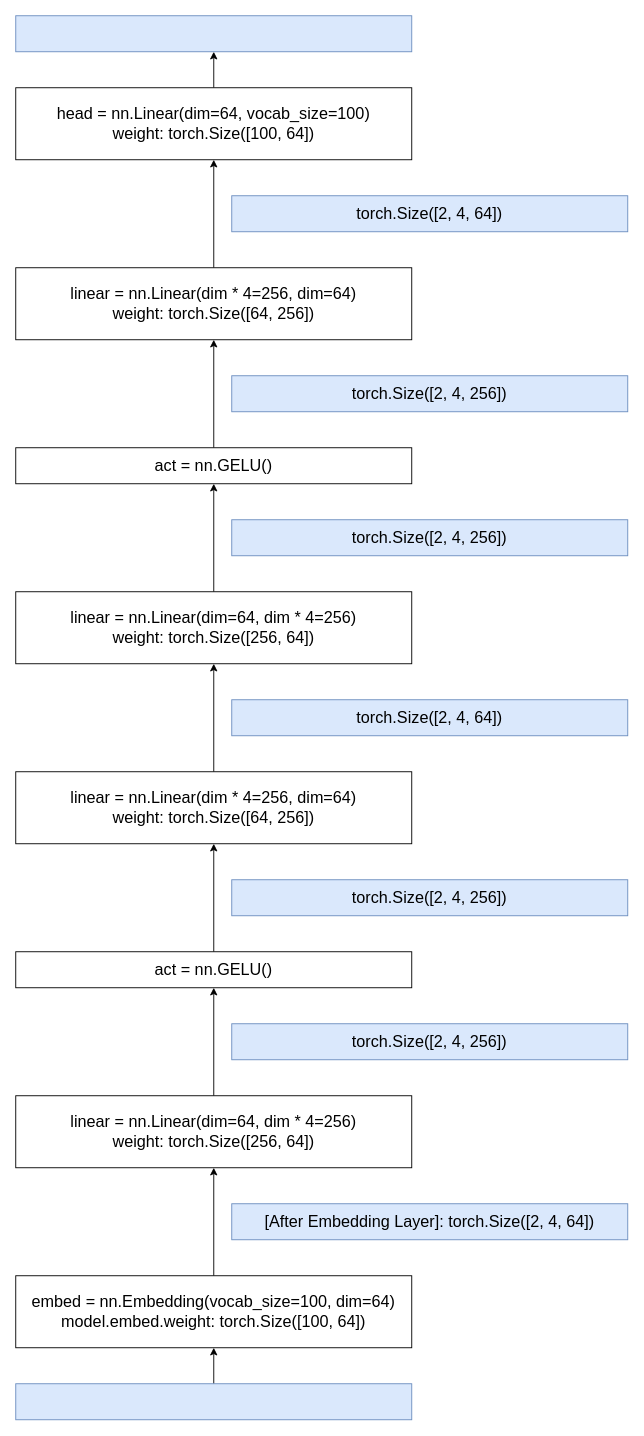
Image size: 644x1436. Some labels were removed from this diagram. The shapes that lost their labels are listed below. From the top down, each one's centre as x and y in pixels, then its label:
At (213,33): "[After Output Head]: torch.Size([2, 4, 100])".
At (213,1401): "[Input Token IDs]: torch.Size([2, 4])".
